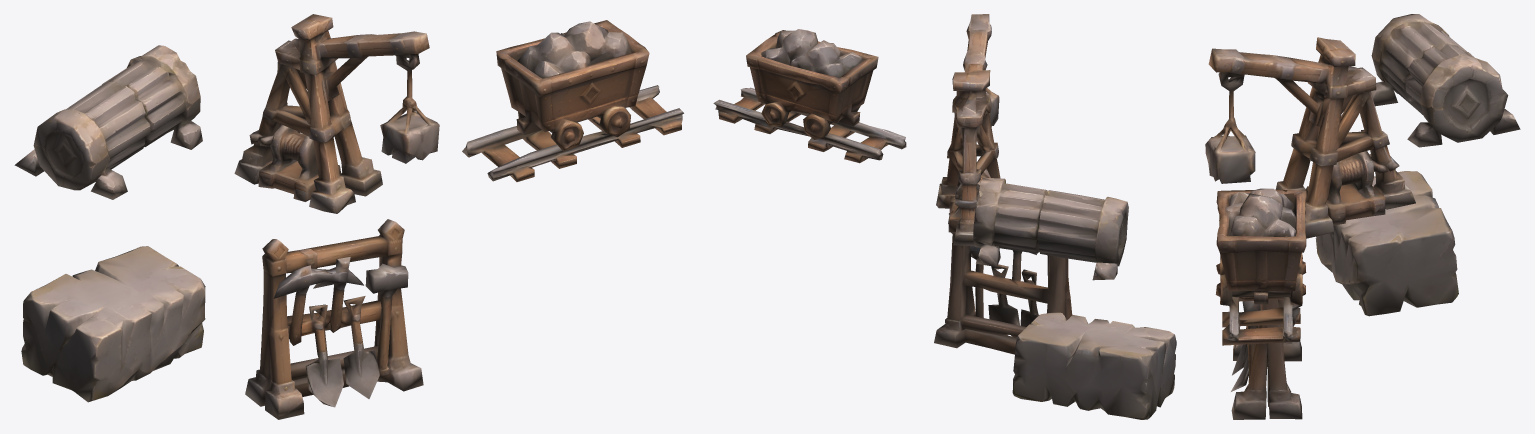
Rendered from room_assetspack2.glb.
3 views of the same model, side by side, from view 1: azimuth 30°, elevation 25°; view 2: azimuth 150°, elevation 25°; view 3: azimuth 270°, elevation 25° (orthographic). The views are drawn at different scales.
Parts seen in each view (by area): view 1: tripo_node_7b09e982-4d33-42e2-83c8-919ed01ad47d; view 2: tripo_node_7b09e982-4d33-42e2-83c8-919ed01ad47d; view 3: tripo_node_7b09e982-4d33-42e2-83c8-919ed01ad47d.
Boxes of the visible parts, box(x1,y1,x2,y2) form: tripo_node_7b09e982-4d33-42e2-83c8-919ed01ad47d: box(14, 14, 683, 419); tripo_node_7b09e982-4d33-42e2-83c8-919ed01ad47d: box(713, 14, 1176, 419); tripo_node_7b09e982-4d33-42e2-83c8-919ed01ad47d: box(1205, 14, 1520, 419).
Size of the model in its own units: 1 by 0.5994 by 0.4727.
Materials: 1 (1 with a texture image).
